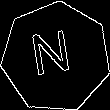N_S: (32, 29, 79, 85)
